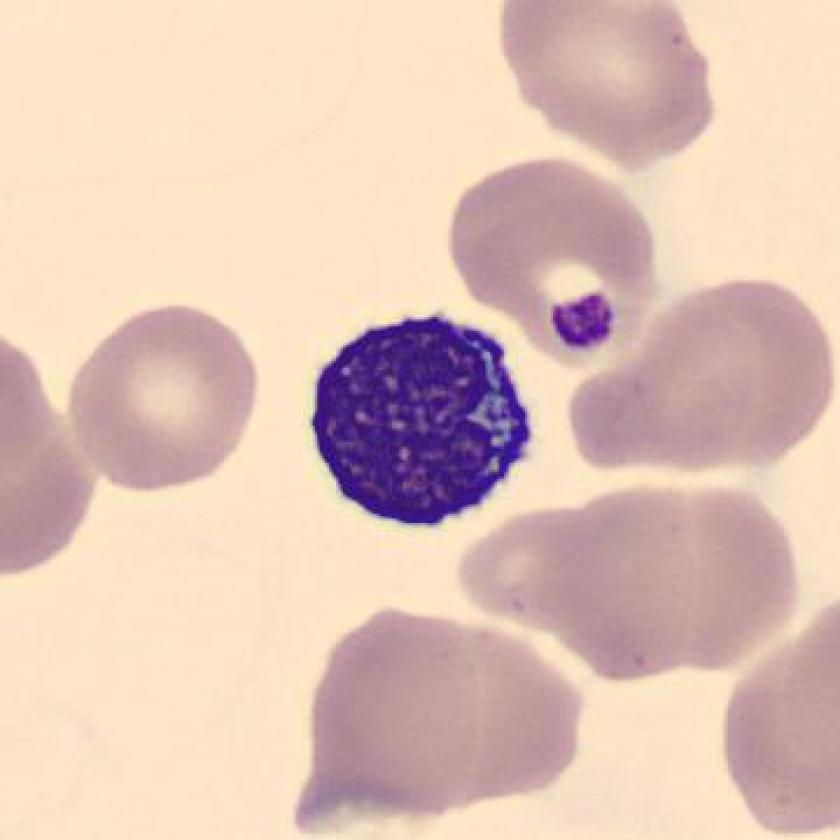lymphocyte: (290, 295, 545, 542)
platelets: (543, 287, 621, 357)
